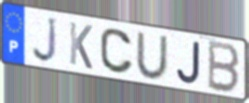B: (206, 38, 242, 95)
C: (98, 27, 136, 76)
J: (31, 16, 59, 65), (174, 39, 202, 86)
K: (68, 20, 94, 72)
U: (135, 30, 170, 82)
